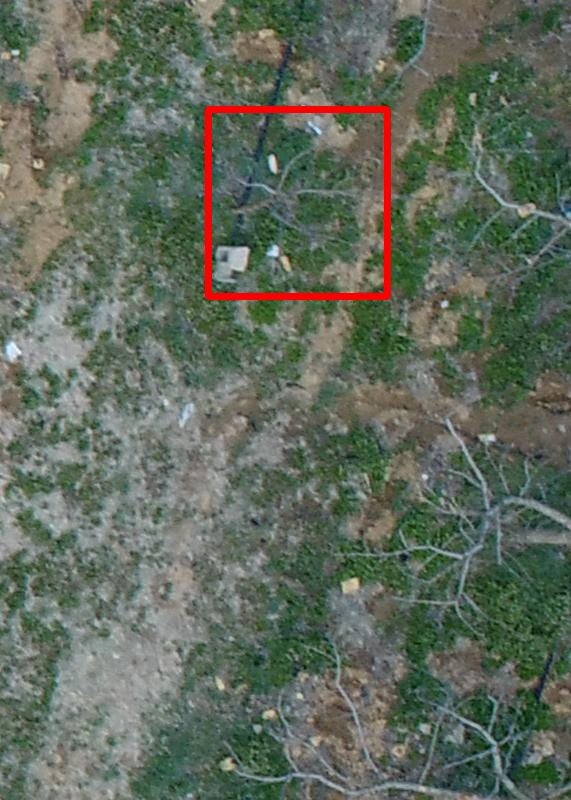apple: (208, 109, 387, 296)
